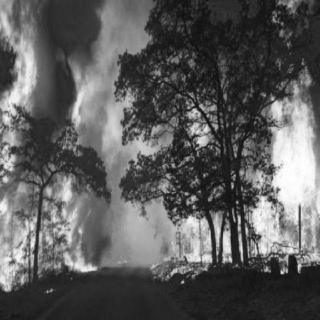Fire: (172, 36, 314, 278)
